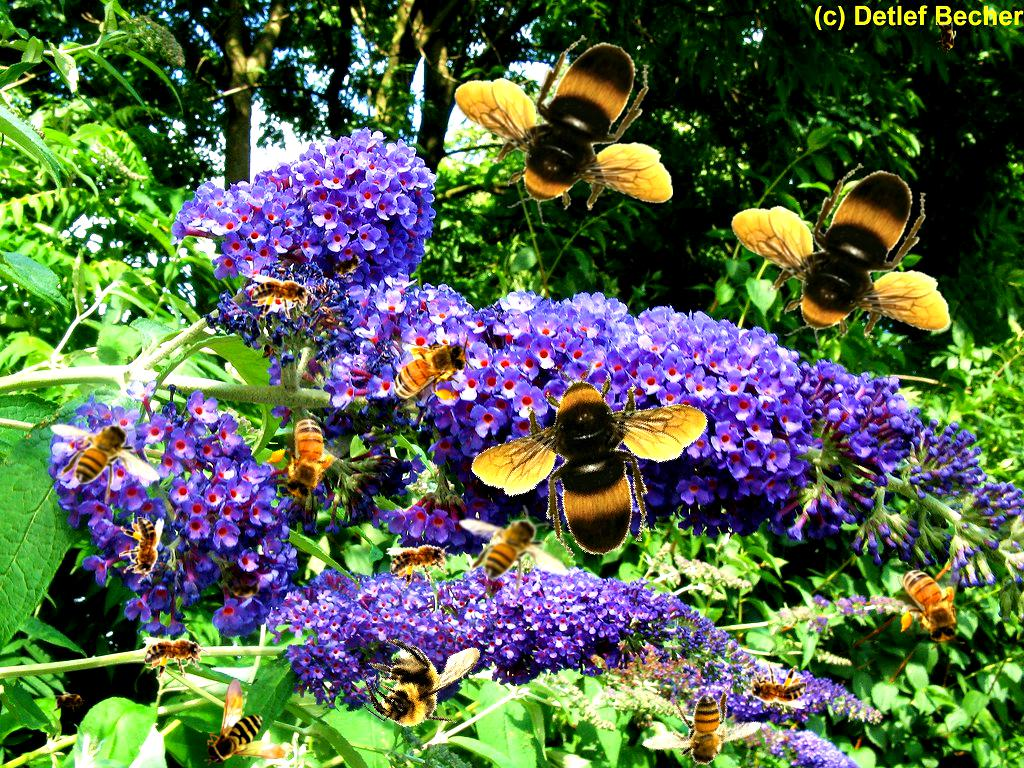Bee: (452, 310, 744, 597), (453, 35, 673, 226), (730, 163, 950, 354), (345, 601, 500, 758), (627, 660, 772, 768), (251, 399, 363, 516), (459, 505, 570, 599), (50, 410, 161, 504), (204, 678, 286, 766), (381, 336, 474, 404), (897, 557, 965, 650), (384, 532, 460, 593), (141, 628, 213, 683), (741, 664, 807, 709), (119, 517, 164, 583), (251, 274, 317, 319), (323, 247, 369, 283), (225, 578, 265, 600), (50, 691, 90, 713), (935, 18, 957, 58)
